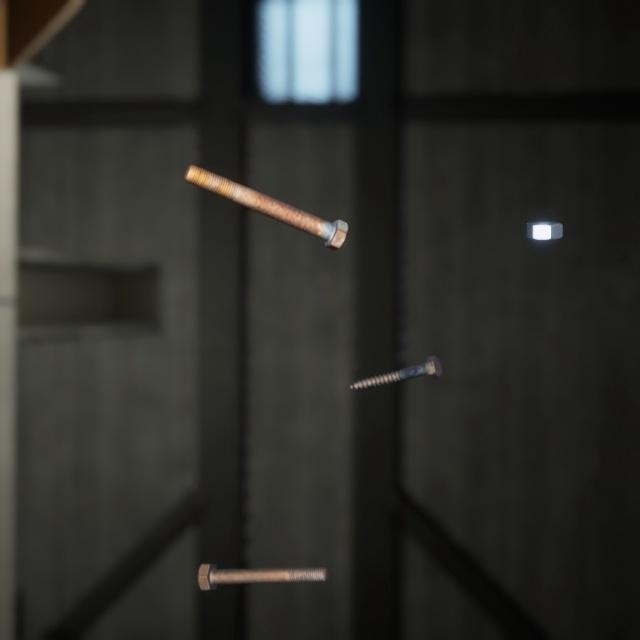bolt: (179, 144, 352, 239), (193, 536, 333, 571), (345, 332, 446, 375)
nut: (522, 201, 567, 229)
